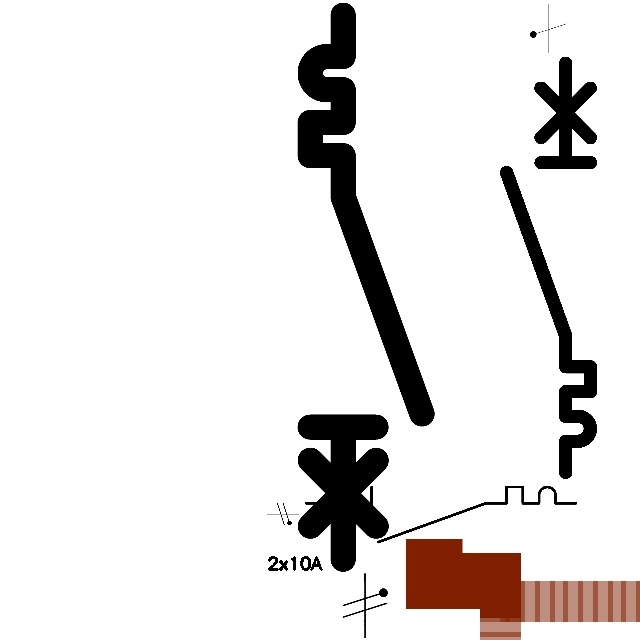interruptor_termomagnetico: (296, 1, 436, 573), (496, 52, 601, 482), (299, 480, 583, 549)
